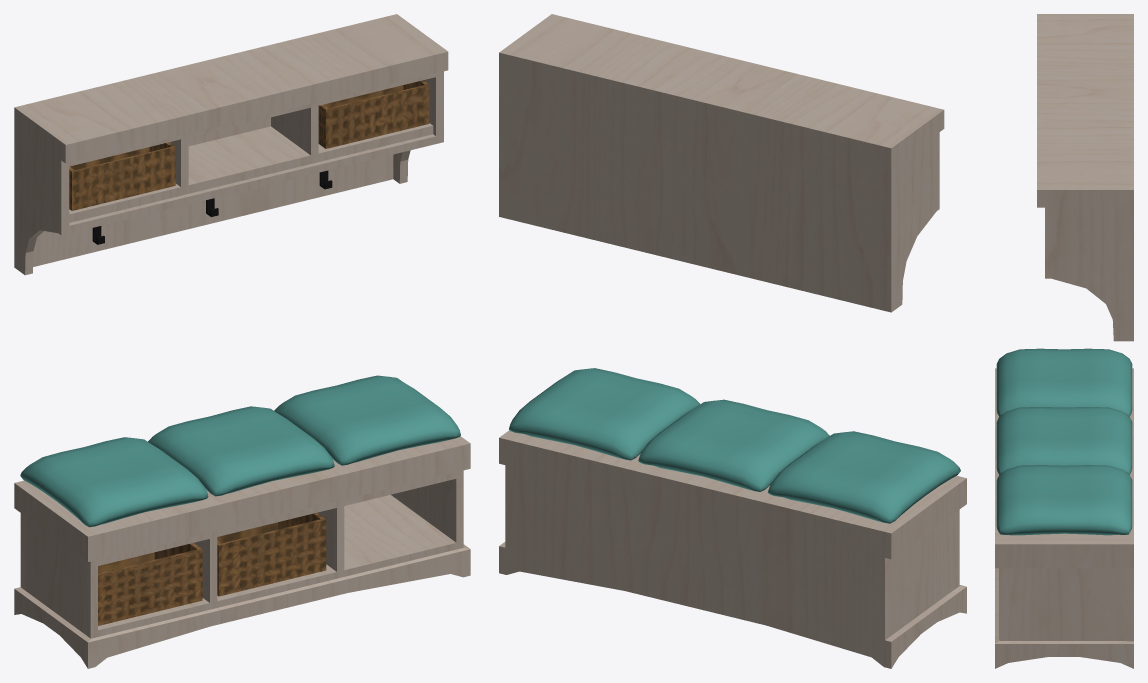
File: Ingresso_Mobile_cuscini.fbx
3 renders of one model, left to right at view 1: azimuth 30°, elevation 25°; view 2: azimuth 150°, elevation 25°; view 3: azimuth 270°, elevation 25°, orthographic. The views are drawn at different scales.
Visible parts, largest first — view 1: mobile, cuscini; view 2: mobile, cuscini; view 3: mobile, cuscini.
Boxes of the visible parts, x1,y1,x2,y2 form: mobile: (14, 14, 470, 668); cuscini: (20, 375, 460, 527); mobile: (499, 14, 966, 668); cuscini: (509, 368, 960, 523); mobile: (995, 14, 1133, 668); cuscini: (996, 348, 1132, 535).
Size of the model in its own units: 150 by 190 by 50.
